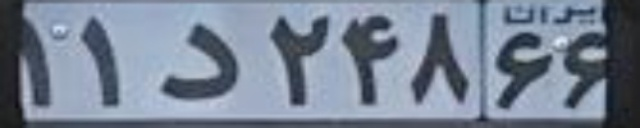1: (71, 19, 123, 106), (19, 16, 49, 107)
2: (269, 13, 330, 107)
4: (342, 14, 397, 105)
6: (490, 29, 552, 106), (559, 30, 604, 108)
8: (408, 12, 471, 106)
dal: (160, 23, 239, 99)
